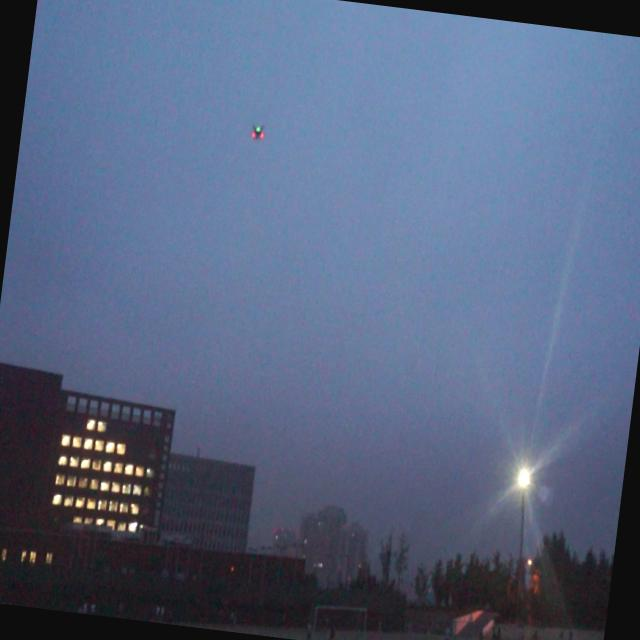drone: (246, 118, 269, 146)
